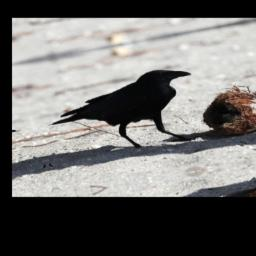Crow: (36, 64, 214, 165)
